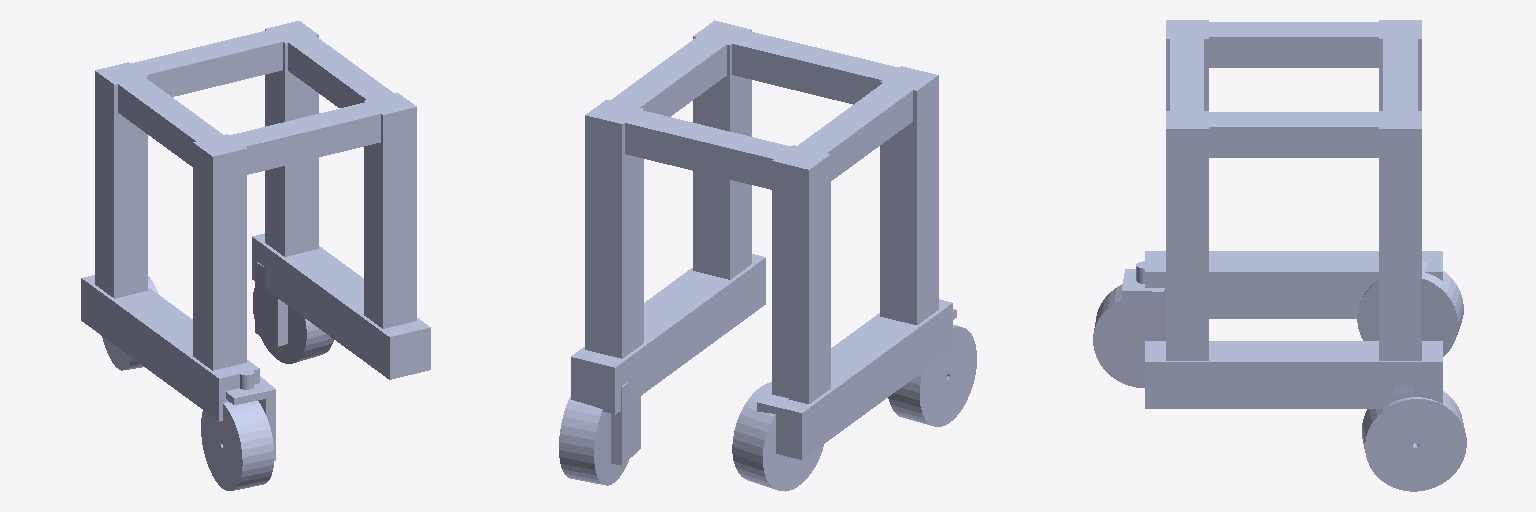
robot.urdf — to_rover:
<?xml version="1.0" encoding="utf-8"?>
<!-- This URDF was automatically created by SolidWorks to URDF Exporter! Originally created by [author] ([email redacted]) 
     Commit Version: 1.6.0-4-g7f85cfe  Build Version: 1.6.7995.38578
     For more information, please see http://wiki.ros.org/sw_urdf_exporter -->
<robot
  name="to_rover">
  <link
    name="base_link">
    <inertial>
      <origin
        xyz="0.125 0.138349965988052 -0.175"
        rpy="0 0 0" />
      <mass
        value="6.77486725877128" />
      <inertia
        ixx="0.0513980645062783"
        ixy="-1.22557188228212E-18"
        ixz="1.77919059306863E-18"
        iyy="0.0315144067015223"
        iyz="4.97987572609187E-19"
        izz="0.0274216662343611" />
    </inertial>
    <visual>
      <origin
        xyz="0 0 0"
        rpy="0 0 0" />
      <geometry>
        <mesh
          filename="package://to_rover/meshes/visual/base_link.dae" />
      </geometry>
      <material
        name="">
        <color
          rgba="0.792156862745098 0.819607843137255 0.933333333333333 1" />
      </material>
    </visual>
    <collision>
      <origin
        xyz="0 0 0"
        rpy="0 0 0" />
      <geometry>
        <mesh
          filename="package://to_rover/meshes/collision/base_link.STL" />
      </geometry>
    </collision>
  </link>
  <link
    name="LFS">
    <inertial>
      <origin
        xyz="0.0078747 -0.08849 2.0817E-16"
        rpy="0 0 0" />
      <mass
        value="0.61195" />
      <inertia
        ixx="0.0010504"
        ixy="-2.7483E-05"
        ixz="-6.5222E-20"
        iyy="0.00058666"
        iyz="-2.6999E-20"
        izz="0.00068007" />
    </inertial>
    <visual>
      <origin
        xyz="0 0 0"
        rpy="0 0 0" />
      <geometry>
        <mesh
          filename="package://to_rover/meshes/visual/LFS.dae" />
      </geometry>
      <material
        name="">
        <color
          rgba="0.79216 0.81961 0.93333 1" />
      </material>
    </visual>
    <collision>
      <origin
        xyz="0 0 0"
        rpy="0 0 0" />
      <geometry>
        <mesh
          filename="package://to_rover/meshes/collision/LFS.STL" />
      </geometry>
    </collision>
  </link>
  <joint
    name="J1"
    type="revolute">
    <origin
      xyz="0.25 0.035 -0.01"
      rpy="1.5708 0 -0.0066965" />
    <parent
      link="base_link" />
    <child
      link="LFS" />
    <axis
      xyz="0 1 0" />
    <limit
      lower="0"
      upper="0"
      effort="0"
      velocity="0" />
  </joint>
  <link
    name="LFW">
    <inertial>
      <origin
        xyz="-0.028027 -0.0125 -0.072381"
        rpy="0 0 0" />
      <mass
        value="0.50721" />
      <inertia
        ixx="0.00054363"
        ixy="-2.4564E-20"
        ixz="4.0658E-20"
        iyy="0.00091608"
        iyz="6.3951E-20"
        izz="0.00054363" />
    </inertial>
    <visual>
      <origin
        xyz="0 0 0"
        rpy="0 0 0" />
      <geometry>
        <mesh
          filename="package://to_rover/meshes/visual/LFW.dae" />
      </geometry>
      <material
        name="">
        <color
          rgba="0.79216 0.81961 0.93333 1" />
      </material>
    </visual>
    <collision>
      <origin
        xyz="0 0 0"
        rpy="0 0 0" />
      <geometry>
        <mesh
          filename="package://to_rover/meshes/collision/LFW.STL" />
      </geometry>
    </collision>
  </link>
  <joint
    name="W1"
    type="revolute">
    <origin
      xyz="0 -0.017382 0"
      rpy="0 1.2014 1.5708" />
    <parent
      link="LFS" />
    <child
      link="LFW" />
    <axis
      xyz="0.3611 0 0.93253" />
    <limit
      lower="0"
      upper="0"
      effort="0"
      velocity="0" />
  </joint>
  <link
    name="LRS">
    <inertial>
      <origin
        xyz="0.00787468004487574 -0.0884895645837418 2.22044604925031E-16"
        rpy="0 0 0" />
      <mass
        value="0.611951504988597" />
      <inertia
        ixx="0.00105043393551896"
        ixy="-2.74833514373984E-05"
        ixz="1.9312351197398E-19"
        iyy="0.000586662324734037"
        iyz="-1.28325491509027E-19"
        izz="0.000680073397553328" />
    </inertial>
    <visual>
      <origin
        xyz="0 0 0"
        rpy="0 0 0" />
      <geometry>
        <mesh
          filename="package://to_rover/meshes/visual/LRS.dae" />
      </geometry>
      <material
        name="">
        <color
          rgba="0.792156862745098 0.819607843137255 0.933333333333333 1" />
      </material>
    </visual>
    <collision>
      <origin
        xyz="0 0 0"
        rpy="0 0 0" />
      <geometry>
        <mesh
          filename="package://to_rover/meshes/collision/LRS.STL" />
      </geometry>
    </collision>
  </link>
  <joint
    name="J2"
    type="revolute">
    <origin
      xyz="0.25 0.315 -0.01"
      rpy="1.5708 0 0.08872" />
    <parent
      link="base_link" />
    <child
      link="LRS" />
    <axis
      xyz="0 1 0" />
    <limit
      lower="0"
      upper="0"
      effort="0"
      velocity="0" />
  </joint>
  <link
    name="LRW">
    <inertial>
      <origin
        xyz="-0.028027 -0.0125 -0.072381"
        rpy="0 0 0" />
      <mass
        value="0.50721" />
      <inertia
        ixx="0.00054363"
        ixy="2.2362E-19"
        ixz="2.7105E-20"
        iyy="0.00091608"
        iyz="-4.574E-20"
        izz="0.00054363" />
    </inertial>
    <visual>
      <origin
        xyz="0 0 0"
        rpy="0 0 0" />
      <geometry>
        <mesh
          filename="package://to_rover/meshes/visual/LRW.dae" />
      </geometry>
      <material
        name="">
        <color
          rgba="0.79216 0.81961 0.93333 1" />
      </material>
    </visual>
    <collision>
      <origin
        xyz="0 0 0"
        rpy="0 0 0" />
      <geometry>
        <mesh
          filename="package://to_rover/meshes/collision/LRW.STL" />
      </geometry>
    </collision>
  </link>
  <joint
    name="W2"
    type="revolute">
    <origin
      xyz="0 -0.017382 0"
      rpy="0 1.2014 1.5708" />
    <parent
      link="LRS" />
    <child
      link="LRW" />
    <axis
      xyz="0.3611 0 0.93253" />
    <limit
      lower="0"
      upper="0"
      effort="0"
      velocity="0" />
  </joint>
  <link
    name="RFS">
    <inertial>
      <origin
        xyz="0.0201724319185264 -0.0984895645837418 0.034260258301042"
        rpy="0 0 0" />
      <mass
        value="0.611951504988597" />
      <inertia
        ixx="0.00105043393551896"
        ixy="-2.74833514373983E-05"
        ixz="-9.14795583034644E-20"
        iyy="0.000586662324734037"
        iyz="-9.02151730598477E-21"
        izz="0.000680073397553328" />
    </inertial>
    <visual>
      <origin
        xyz="0 0 0"
        rpy="0 0 0" />
      <geometry>
        <mesh
          filename="package://to_rover/meshes/visual/RFS.dae" />
      </geometry>
      <material
        name="">
        <color
          rgba="0.792156862745098 0.819607843137255 0.933333333333333 1" />
      </material>
    </visual>
    <collision>
      <origin
        xyz="0 0 0"
        rpy="0 0 0" />
      <geometry>
        <mesh
          filename="package://to_rover/meshes/collision/RFS.STL" />
      </geometry>
    </collision>
  </link>
  <joint
    name="J3"
    type="revolute">
    <origin
      xyz="0.01 0 0"
      rpy="1.5708 0 3.0753" />
    <parent
      link="base_link" />
    <child
      link="RFS" />
    <axis
      xyz="0 1 0" />
    <limit
      lower="0"
      upper="0"
      effort="0"
      velocity="0" />
  </joint>
  <link
    name="RFW">
    <inertial>
      <origin
        xyz="-0.0280274505133484 -0.0125 -0.072380526760798"
        rpy="0 0 0" />
      <mass
        value="0.507206206931255" />
      <inertia
        ixx="0.000543629952666506"
        ixy="-5.42101086242752E-20"
        ixz="5.42101086242752E-20"
        iyy="0.000916077810493713"
        iyz="1.20278678510111E-19"
        izz="0.000543629952666506" />
    </inertial>
    <visual>
      <origin
        xyz="0 0 0"
        rpy="0 0 0" />
      <geometry>
        <mesh
          filename="package://to_rover/meshes/visual/RFW.dae" />
      </geometry>
      <material
        name="">
        <color
          rgba="0.792156862745098 0.819607843137255 0.933333333333333 1" />
      </material>
    </visual>
    <collision>
      <origin
        xyz="0 0 0"
        rpy="0 0 0" />
      <geometry>
        <mesh
          filename="package://to_rover/meshes/collision/RFW.STL" />
      </geometry>
    </collision>
  </link>
  <joint
    name="W3"
    type="revolute">
    <origin
      xyz="0.012298 -0.027382 0.03426"
      rpy="0 1.2014 1.5708" />
    <parent
      link="RFS" />
    <child
      link="RFW" />
    <axis
      xyz="0.3611 0 0.93253" />
    <limit
      lower="0"
      upper="0"
      effort="0"
      velocity="0" />
  </joint>
  <link
    name="RRS">
    <inertial>
      <origin
        xyz="0.00787468004487565 -0.0884895645837418 1.66533453693773E-16"
        rpy="0 0 0" />
      <mass
        value="0.611951504988597" />
      <inertia
        ixx="0.00105043393551896"
        ixy="-2.74833514373983E-05"
        ixz="7.52165257161819E-19"
        iyy="0.000586662324734037"
        iyz="-1.07889540771526E-19"
        izz="0.000680073397553328" />
    </inertial>
    <visual>
      <origin
        xyz="0 0 0"
        rpy="0 0 0" />
      <geometry>
        <mesh
          filename="package://to_rover/meshes/visual/RRS.dae" />
      </geometry>
      <material
        name="">
        <color
          rgba="0.792156862745098 0.819607843137255 0.933333333333333 1" />
      </material>
    </visual>
    <collision>
      <origin
        xyz="0 0 0"
        rpy="0 0 0" />
      <geometry>
        <mesh
          filename="package://to_rover/meshes/collision/RRS.STL" />
      </geometry>
    </collision>
  </link>
  <joint
    name="J4"
    type="revolute">
    <origin
      xyz="0 0.315 -0.01"
      rpy="1.5708 0 2.9952" />
    <parent
      link="base_link" />
    <child
      link="RRS" />
    <axis
      xyz="0 1 0" />
    <limit
      lower="0"
      upper="0"
      effort="0"
      velocity="0" />
  </joint>
  <link
    name="RRW">
    <inertial>
      <origin
        xyz="-0.0280274505133485 -0.0125000000000001 -0.0723805267607979"
        rpy="0 0 0" />
      <mass
        value="0.507206206931255" />
      <inertia
        ixx="0.000543629952666506"
        ixy="7.25060202849681E-19"
        ixz="4.06575814682064E-20"
        iyy="0.000916077810493713"
        iyz="-2.86297136171954E-19"
        izz="0.000543629952666506" />
    </inertial>
    <visual>
      <origin
        xyz="0 0 0"
        rpy="0 0 0" />
      <geometry>
        <mesh
          filename="package://to_rover/meshes/visual/RRW.dae" />
      </geometry>
      <material
        name="">
        <color
          rgba="0.792156862745098 0.819607843137255 0.933333333333333 1" />
      </material>
    </visual>
    <collision>
      <origin
        xyz="0 0 0"
        rpy="0 0 0" />
      <geometry>
        <mesh
          filename="package://to_rover/meshes/collision/RRW.STL" />
      </geometry>
    </collision>
  </link>
  <joint
    name="W4"
    type="revolute">
    <origin
      xyz="0 -0.017382 0"
      rpy="0 1.2014 1.5708" />
    <parent
      link="RRS" />
    <child
      link="RRW" />
    <axis
      xyz="0.3611 0 0.93253" />
    <limit
      lower="0"
      upper="0"
      effort="0"
      velocity="0" />
  </joint>
</robot>

--- Render facts (derived) ---
3 views of the same robot in one strip: view 1: azimuth 30°, elevation 25°; view 2: azimuth 150°, elevation 25°; view 3: azimuth 270°, elevation 25° (orthographic).
Robot: to_rover — 9 links, 8 joints (8 revolute); root link base_link; default pose: all joints at 0.
Visible links, largest first — view 1: base_link, RFS, LRS, RRW; view 2: base_link, LRS, RFS, RRW; view 3: base_link, LRS, RFS, RRW.
Boxes of the visible links, x1,y1,x2,y2 form: base_link: (81,21,430,421); RFS: (201,370,275,490); LRS: (253,262,333,363); RRW: (102,276,158,370); base_link: (571,20,952,459); LRS: (559,380,640,485); RFS: (888,309,976,426); RRW: (732,382,823,491); base_link: (1145,20,1442,408); LRS: (1362,386,1466,491); RFS: (1093,261,1165,387); RRW: (1357,261,1463,356).
Size in the robot's own frame: 0.3202 by 0.4383 by 0.465 metres.
4 mesh visuals loaded from 9 distinct referenced files (4 Collada DAE); not drawn: 5 (file found but could not be loaded).